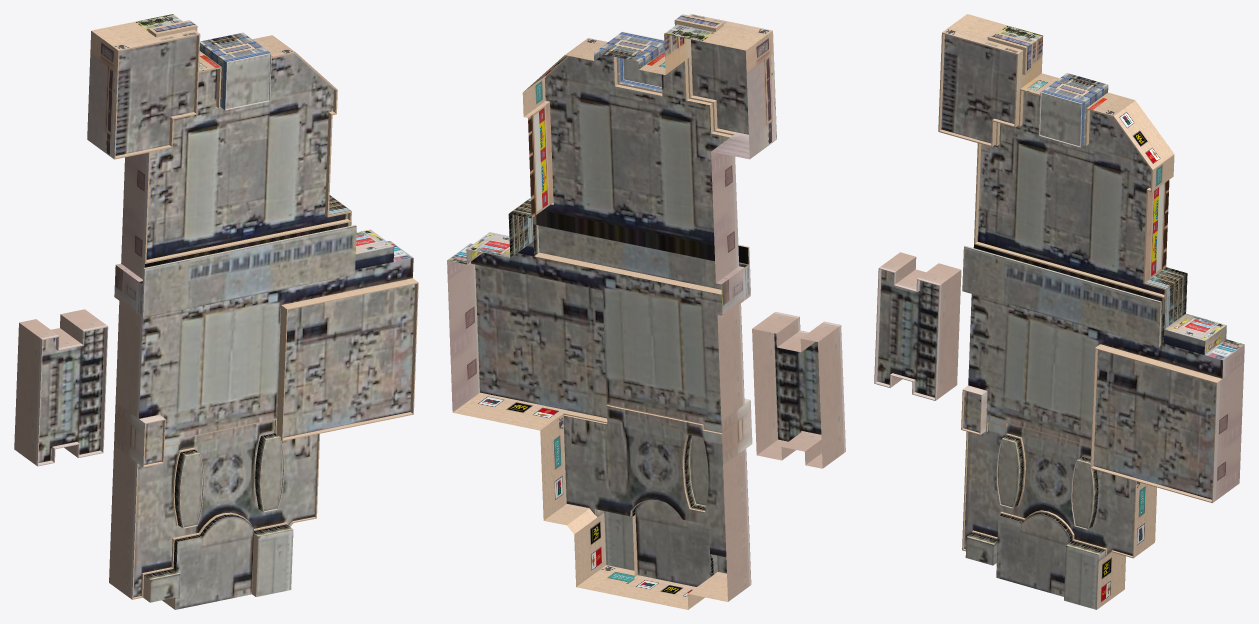
File: VR_Punjab_Mall.glb
3 views of the same model, side by side, from view 1: azimuth 30°, elevation 25°; view 2: azimuth 150°, elevation 25°; view 3: azimuth 330°, elevation 25° (orthographic). The views are drawn at different scales.
Parts seen in each view (by area): view 1: VR_Punjab_Mall; view 2: VR_Punjab_Mall; view 3: VR_Punjab_Mall.
Boxes of the visible parts, x1,y1,x2,y2 form: VR_Punjab_Mall: (14, 14, 418, 609); VR_Punjab_Mall: (447, 14, 845, 609); VR_Punjab_Mall: (874, 14, 1244, 609).
Bounding box in the file's own units: 197 × 290 × 27.37.
Materials: 1 (1 with a texture image).
